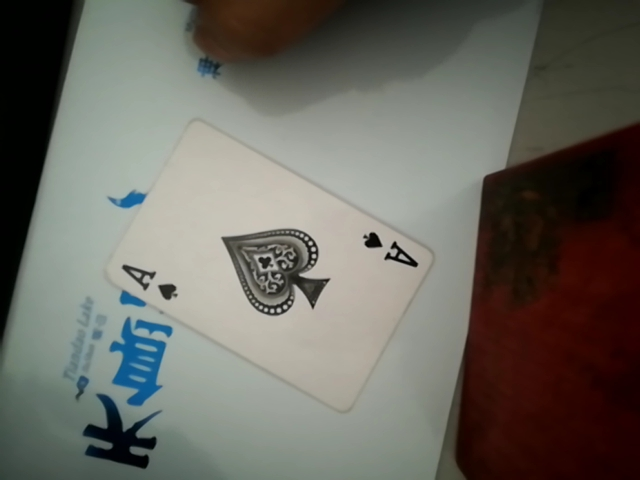ht a: (116, 123, 445, 407)
